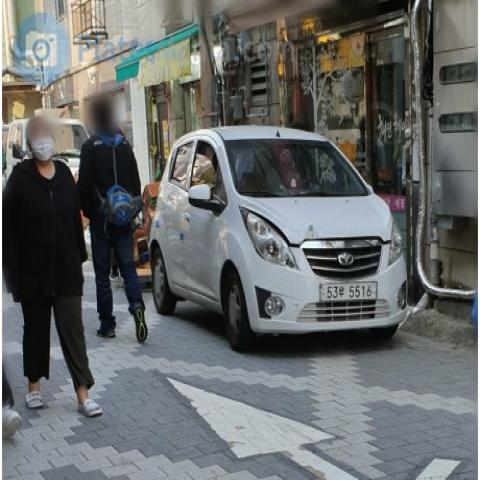LP: (316, 273, 380, 310)
